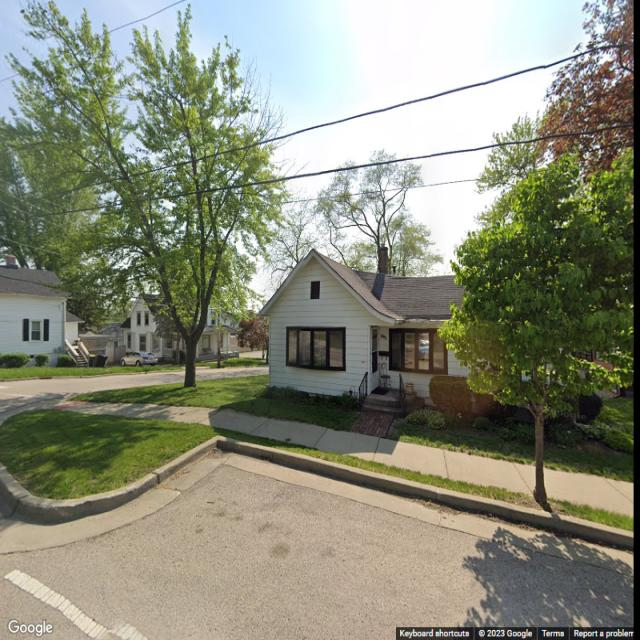House: (260, 246, 620, 428), (0, 255, 88, 368), (122, 295, 240, 363)
